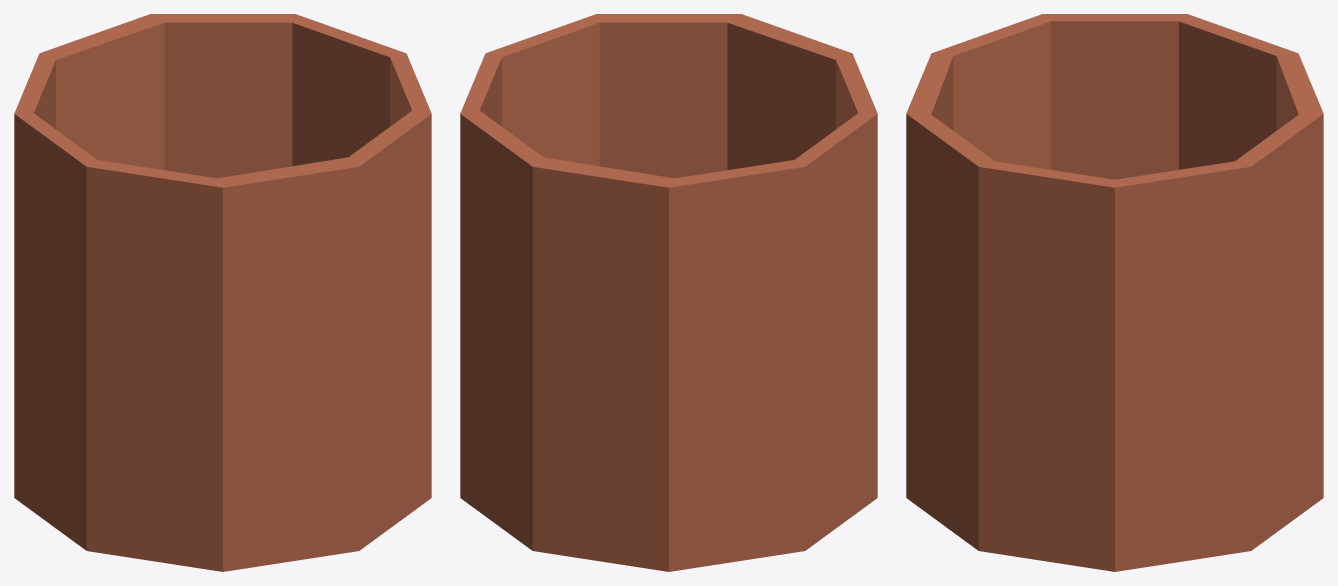
File: PotText.fbx
3 views of the same model, side by side, from view 1: azimuth 30°, elevation 25°; view 2: azimuth 150°, elevation 25°; view 3: azimuth 270°, elevation 25° (orthographic).
Visible parts, largest first — view 1: pCylinder1; view 2: pCylinder1; view 3: pCylinder1.
Boxes of the visible parts, box(x1,y1,x2,y2) form: pCylinder1: box(14, 14, 431, 571); pCylinder1: box(460, 14, 877, 571); pCylinder1: box(906, 14, 1323, 571).
Bounding box in the file's own units: 198 × 204 × 201.
